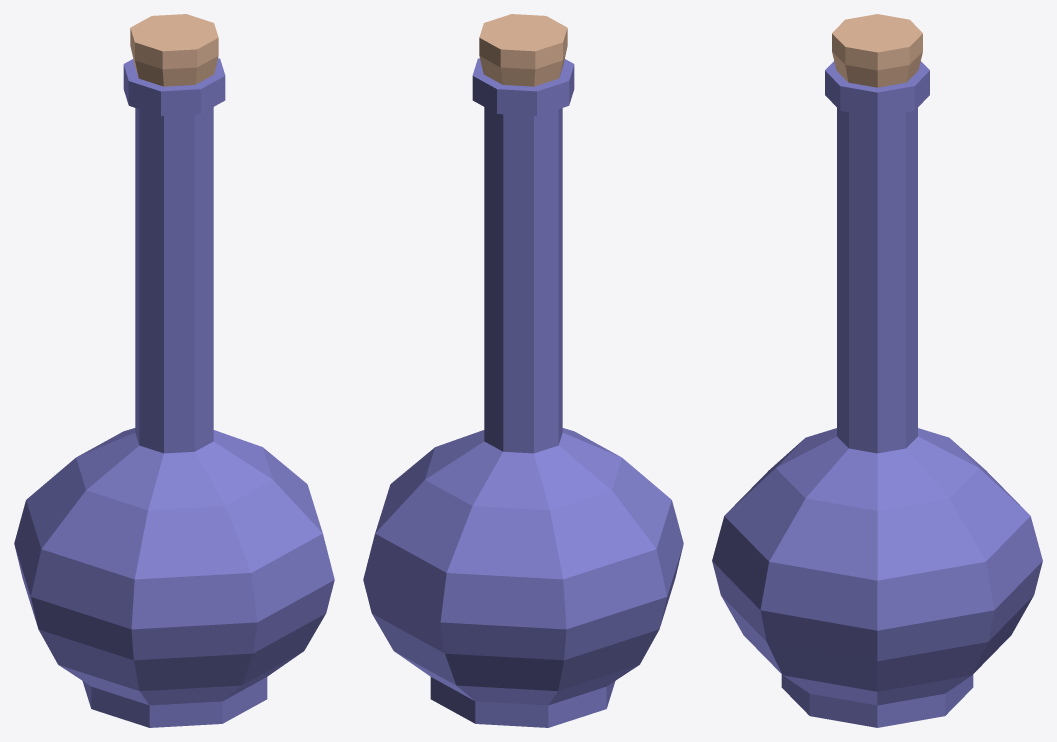
File: Potion C.glb
The picture shows the model from 3 angles, left to right: view 1: azimuth 30°, elevation 25°; view 2: azimuth 150°, elevation 25°; view 3: azimuth 270°, elevation 25°; orthographic projection.
Parts seen in each view (by area): view 1: Potion C; view 2: Potion C; view 3: Potion C.
Part boxes in pixels (box(x1,y1,x2,y2)): Potion C: box(14, 14, 334, 727); Potion C: box(363, 14, 683, 727); Potion C: box(712, 14, 1042, 727).
Bounding box in the file's own units: 0.0717 × 0.1563 × 0.0717.
